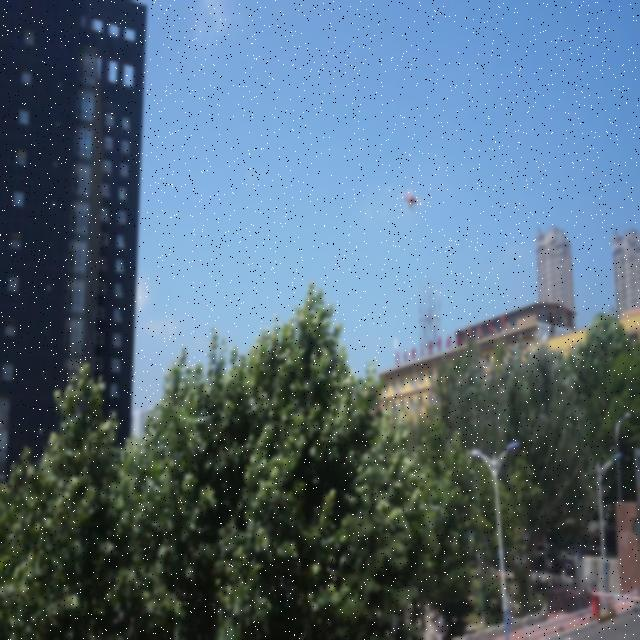UAV: (401, 190, 424, 211)
